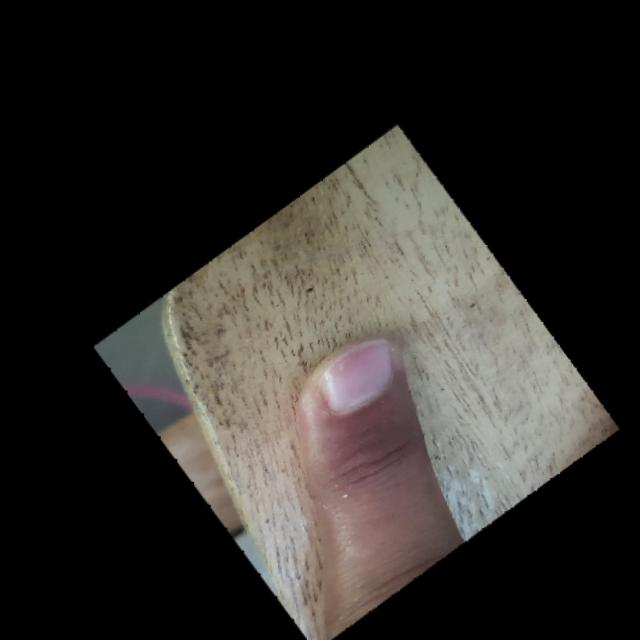Nail: (318, 340, 392, 409)
